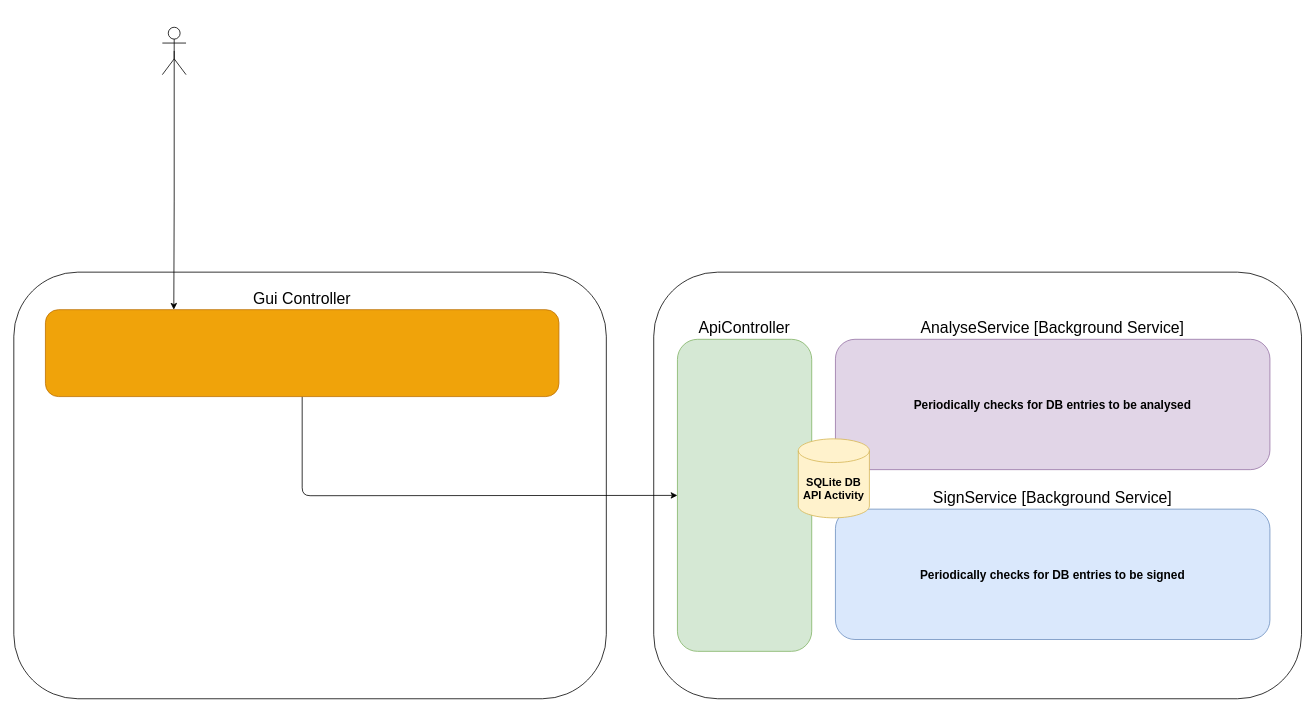
This 1315x713 diagram has some shape labels left out. The shapes that lost their labels are listed below. From the top down, each one's box as (x1, y1, x2, y2) in pixels, then its label:
(162, 26, 186, 75): User submits Request
(13, 271, 606, 699): MacroGoat WebApp :443
(653, 271, 1302, 699): SignerApi :8443
